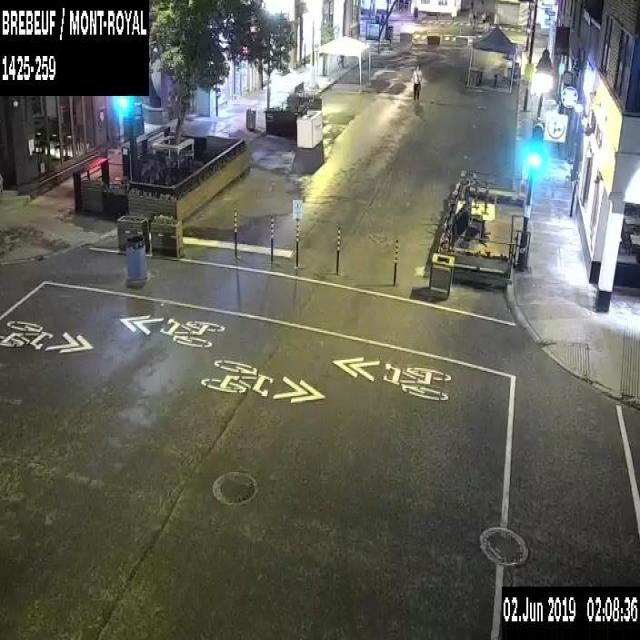pedestrian: (411, 62, 423, 102), (479, 9, 488, 32), (472, 8, 476, 24)
